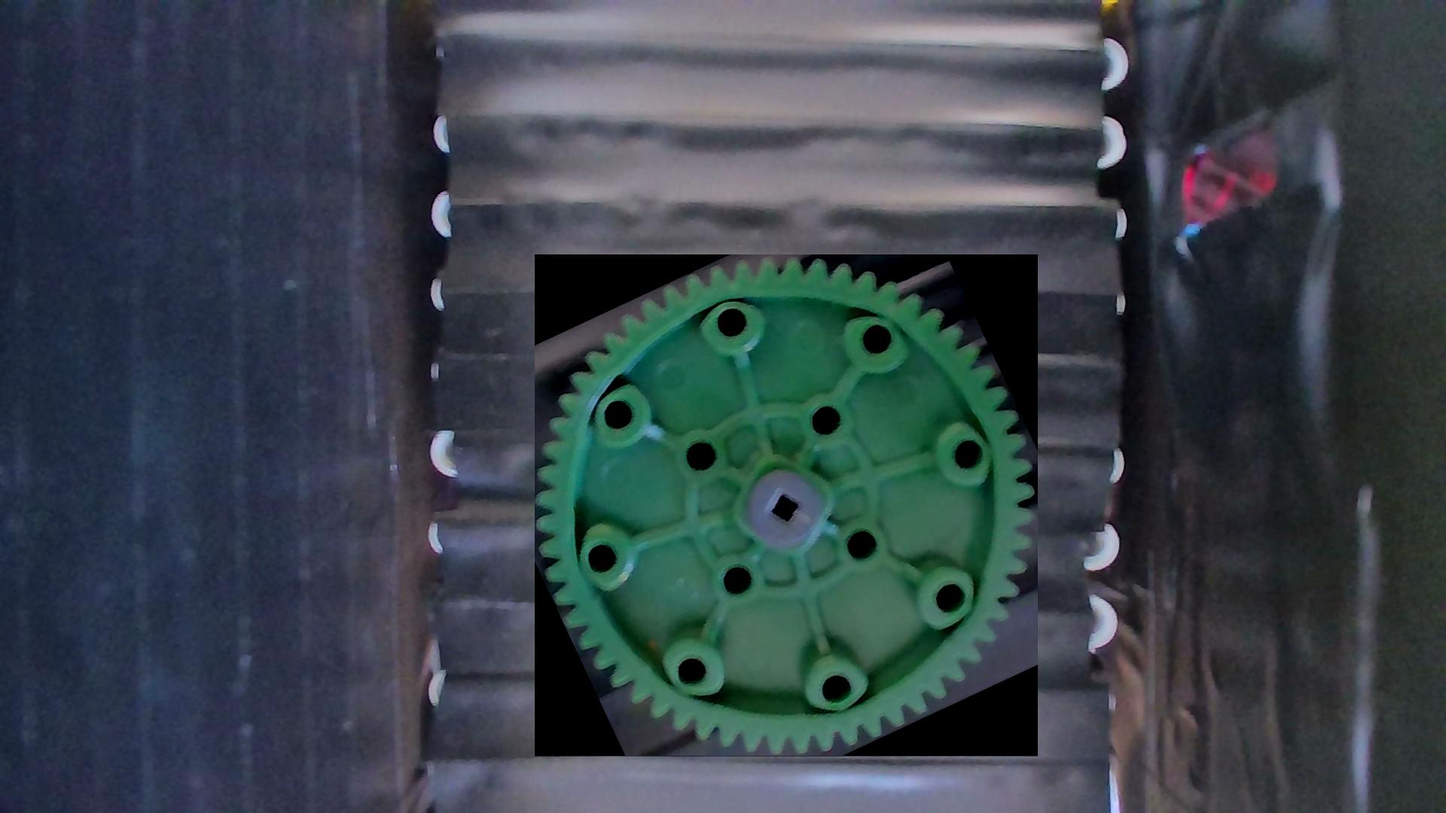gear: (534, 255, 1037, 757)
